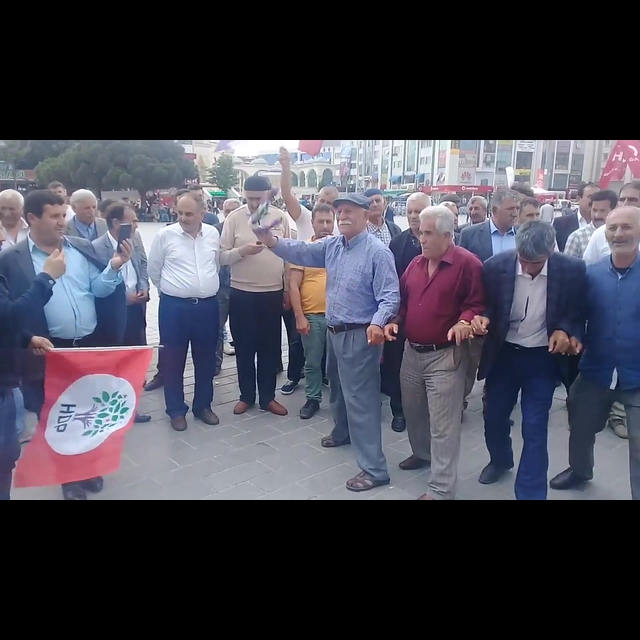HDP: (72, 387, 130, 439)
